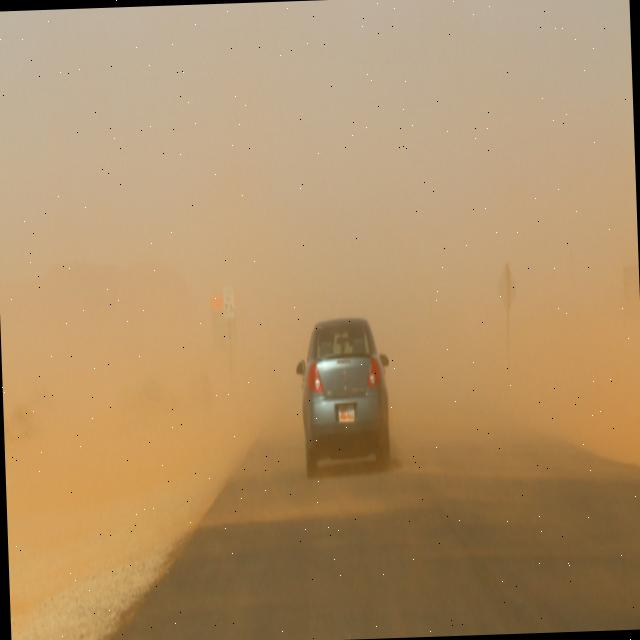car: (296, 315, 394, 470)
